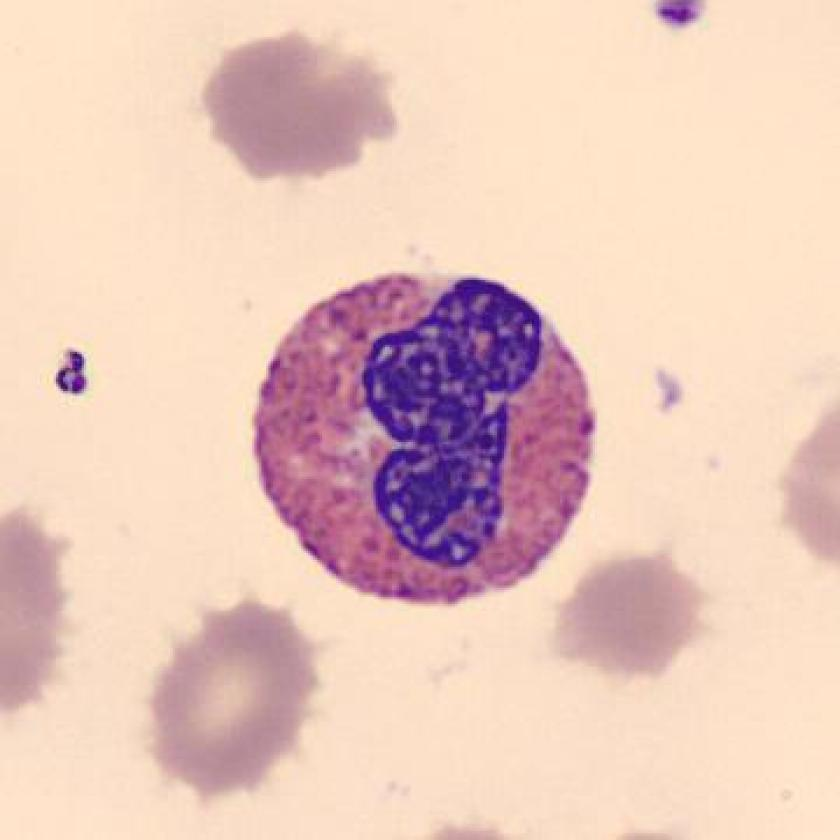eosinophil: (232, 255, 615, 619)
